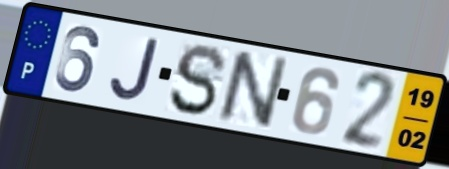2: (336, 68, 398, 153)
6: (290, 66, 341, 137), (54, 24, 101, 94)
J: (107, 35, 163, 103)
N: (214, 48, 292, 131)
S: (166, 42, 230, 119)
